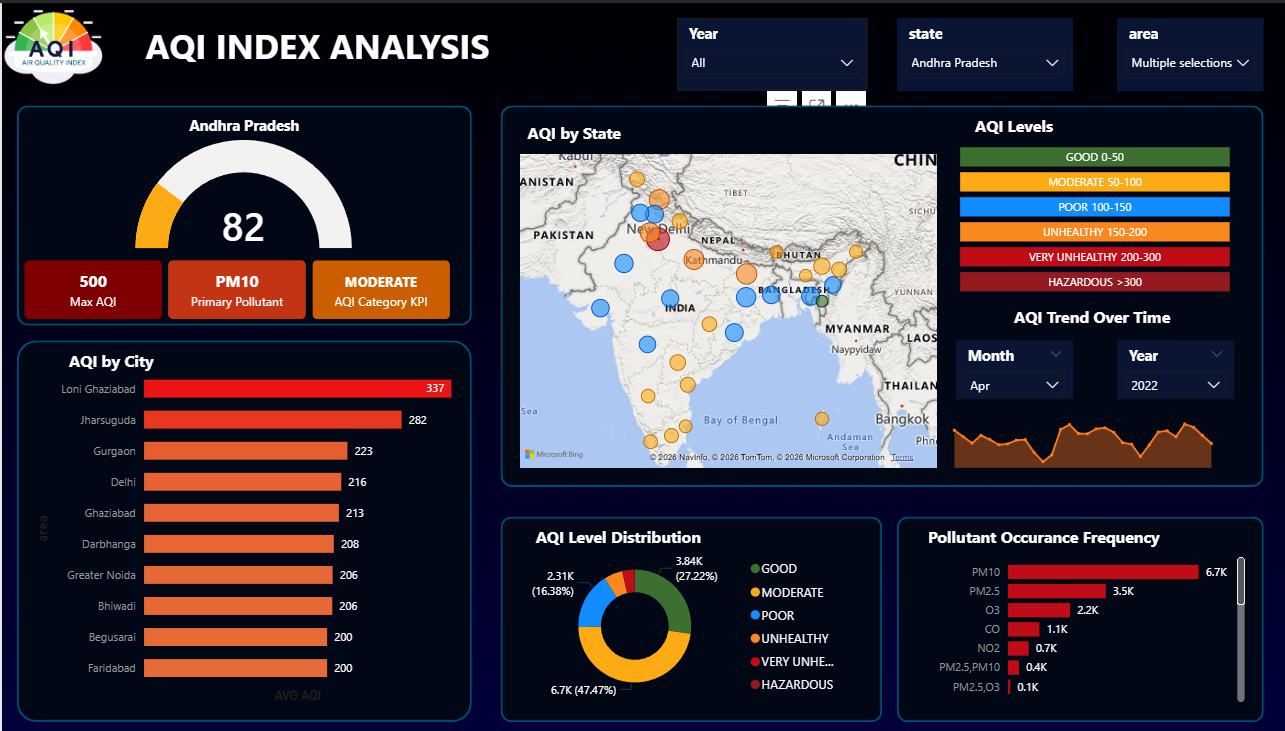

The dashboard page shown, as its layout file describes it:
{"tool":"powerbi","page":{"name":"AQI INDEX ANALYSIS","canvas":[1400,800],"ordinal":0},"visuals":[{"type":"textbox","box":[128,16,432,64],"z":0},{"type":"image","box":[0,0,112,96],"z":1000},{"type":"shape","box":[16,112,496,240],"z":2000},{"type":"gauge","fields":{"Y":["Dax Mesures.AVG AQI"]},"box":[112,144,304,128],"z":3000},{"type":"slicer","fields":{"Values":["Date.Year"]},"box":[736,16,208,80],"z":4000},{"type":"slicer","fields":{"Values":["day_wise_aqi_data.area"]},"box":[1216,16,160,80],"z":5000},{"type":"slicer","fields":{"Values":["day_wise_aqi_data.state"]},"box":[976,16,192,80],"z":6000},{"type":"cardVisual","fields":{"Data":["Dax Mesures.Max AQI","Dax Mesures.Primary Pollutant","Dax Mesures.AQI Category KPI"]},"box":[16,272,480,80],"z":7000},{"type":"card","fields":{"Values":["Dax Mesures.KPI Title"]},"box":[16,112,496,48],"z":8000},{"type":"shape","box":[544,112,832,416],"z":9000},{"type":"map","fields":{"Category":["day_wise_aqi_data.state"],"Size":["Dax Mesures.AVG AQI"]},"box":[560,160,464,352],"z":10000},{"type":"card","fields":{"Values":["Dax Mesures.State Map Title"]},"box":[560,112,128,64],"z":11000},{"type":"hundredPercentStackedBarChart","fields":{"Category":["day_wise_aqi_data.AQI Category"],"Y":["Dax Mesures.Label"]},"box":[1040,144,304,176],"z":12000},{"type":"card","fields":{"Values":["Dax Mesures.AQI Level Title"]},"box":[1024,112,160,48],"z":13000},{"type":"areaChart","fields":{"Category":["Date.Day"],"Y":["Dax Mesures.AVG AQI"]},"box":[1024,432,320,80],"z":14000},{"type":"slicer","fields":{"Values":["Date.Year"]},"box":[1216,368,128,64],"z":15000},{"type":"slicer","fields":{"Values":["Date.Month"]},"box":[1040,368,128,64],"z":16000},{"type":"card","fields":{"Values":["Dax Mesures.Title for Monthly Chart"]},"box":[1072,320,240,48],"z":17000},{"type":"shape","box":[16,368,496,416],"z":18000},{"type":"clusteredBarChart","fields":{"Category":["day_wise_aqi_data.area"],"Y":["Dax Mesures.AVG AQI"]},"box":[32,384,464,384],"z":19000},{"type":"card","fields":{"Values":["Dax Mesures.Title for City"]},"box":[32,368,176,48],"z":20000},{"type":"shape","box":[544,560,416,224],"z":21000},{"type":"donutChart","fields":{"Y":["Dax Mesures.Count Rows"],"Category":["day_wise_aqi_data.AQI Category"]},"box":[560,592,368,176],"z":22000},{"type":"card","fields":{"Values":["Dax Mesures.Donut Title"]},"box":[560,560,224,48],"z":23000},{"type":"shape","box":[976,560,400,224],"z":24000},{"type":"clusteredBarChart","fields":{"Category":["day_wise_aqi_data.prominent_pollutants"],"Y":["Dax Mesures.Count Rows"]},"box":[992,592,368,176],"z":25000},{"type":"card","fields":{"Values":["Dax Mesures.Pollutant Title"]},"box":[992,560,288,48],"z":26000}]}

Visuals, with their boxes in screenshot pixels (x1, y1, x2, y2), scaled from the page's 1400x800 canvas onto the 1285x731 screenshot:
textbox: (117, 15, 514, 73)
image: (0, 0, 103, 88)
shape: (15, 102, 470, 322)
gauge - Dax Mesures.AVG AQI: (103, 132, 382, 249)
slicer - Date.Year: (676, 15, 866, 88)
slicer - day_wise_aqi_data.area: (1116, 15, 1263, 88)
slicer - day_wise_aqi_data.state: (896, 15, 1072, 88)
cardVisual - Dax Mesures.Max AQI x Dax Mesures.Primary Pollutant: (15, 249, 455, 322)
card - Dax Mesures.KPI Title: (15, 102, 470, 146)
shape: (499, 102, 1263, 482)
map - day_wise_aqi_data.state x Dax Mesures.AVG AQI: (514, 146, 940, 468)
card - Dax Mesures.State Map Title: (514, 102, 631, 161)
hundredPercentStackedBarChart - day_wise_aqi_data.AQI Category x Dax Mesures.Label: (955, 132, 1234, 292)
card - Dax Mesures.AQI Level Title: (940, 102, 1087, 146)
areaChart - Date.Day x Dax Mesures.AVG AQI: (940, 395, 1234, 468)
slicer - Date.Year: (1116, 336, 1234, 395)
slicer - Date.Month: (955, 336, 1072, 395)
card - Dax Mesures.Title for Monthly Chart: (984, 292, 1204, 336)
shape: (15, 336, 470, 716)
clusteredBarChart - day_wise_aqi_data.area x Dax Mesures.AVG AQI: (29, 351, 455, 702)
card - Dax Mesures.Title for City: (29, 336, 191, 380)
shape: (499, 512, 881, 716)
donutChart - Dax Mesures.Count Rows x day_wise_aqi_data.AQI Category: (514, 541, 852, 702)
card - Dax Mesures.Donut Title: (514, 512, 720, 556)
shape: (896, 512, 1263, 716)
clusteredBarChart - day_wise_aqi_data.prominent_pollutants x Dax Mesures.Count Rows: (911, 541, 1248, 702)
card - Dax Mesures.Pollutant Title: (911, 512, 1175, 556)
